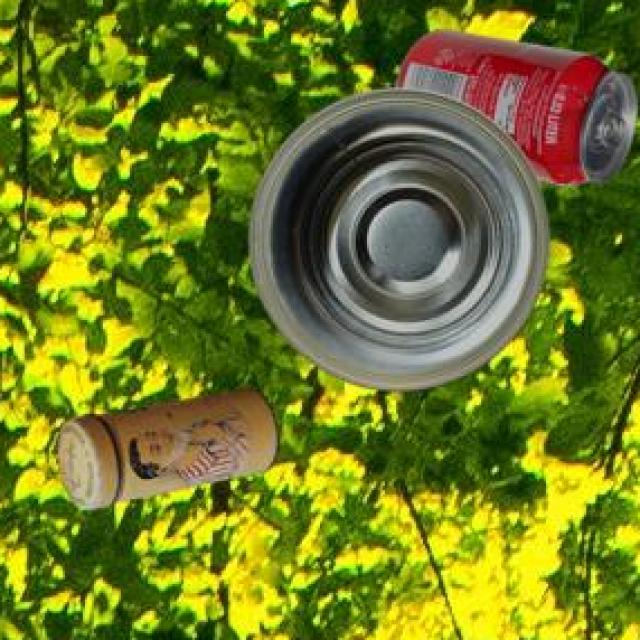logam: (252, 93, 552, 395), (401, 32, 640, 189), (62, 393, 283, 514)
